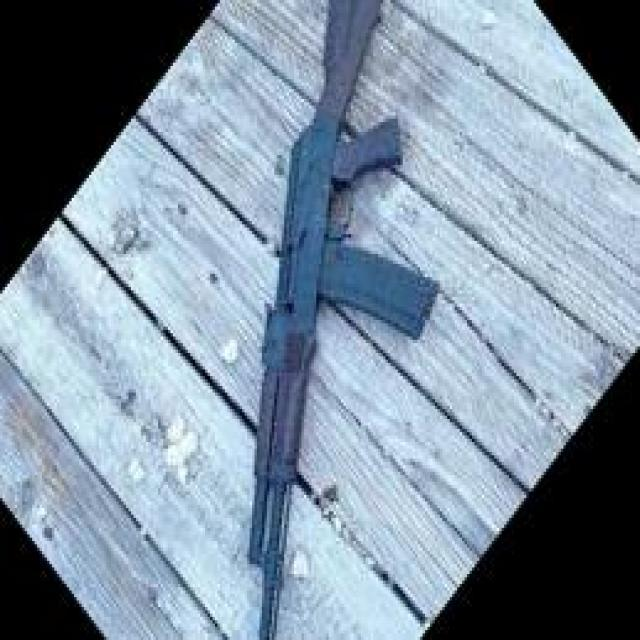weapon: (245, 0, 440, 640)
